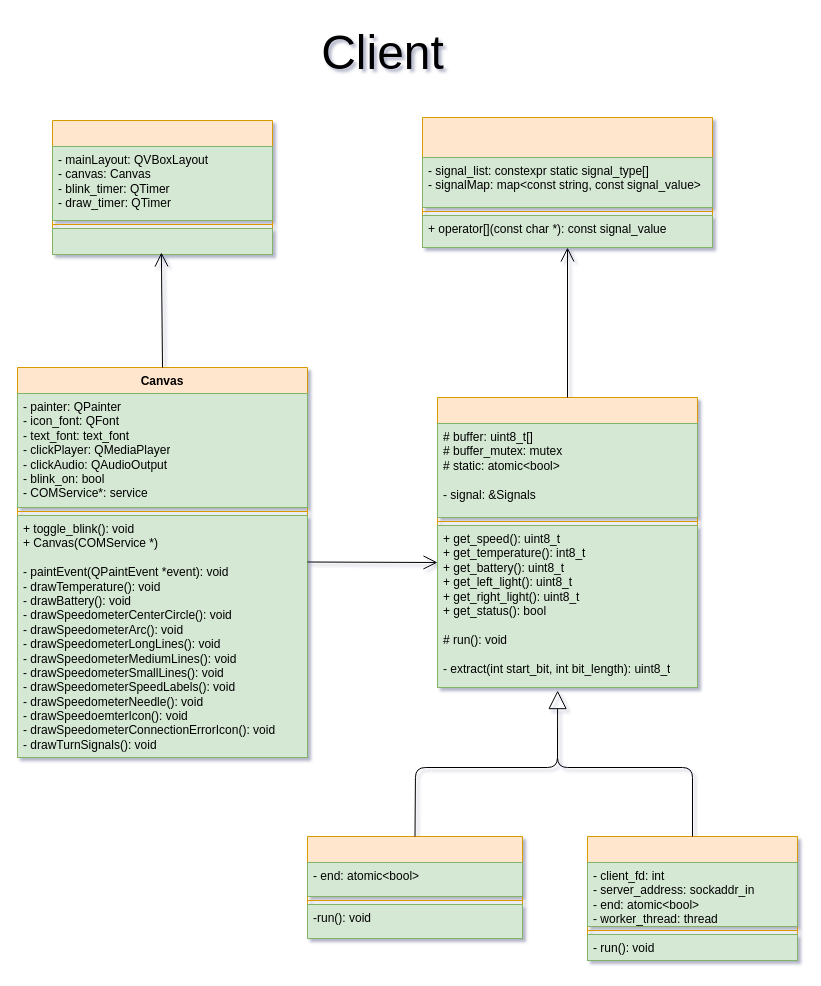
Image size: 821x986. Some labels were removed from this diagram. The box of each missing label's shape, as (x1, y1, x2, y2) in pixels:
+ showEvent(QShowEvent*): void: (52, 228, 272, 254)
<<singelton>> Signals: (422, 116, 712, 248)
COMService: (436, 396, 698, 688)
TCPService: (586, 836, 798, 960)
UARTService: (306, 836, 522, 938)
Window: (52, 120, 272, 254)
